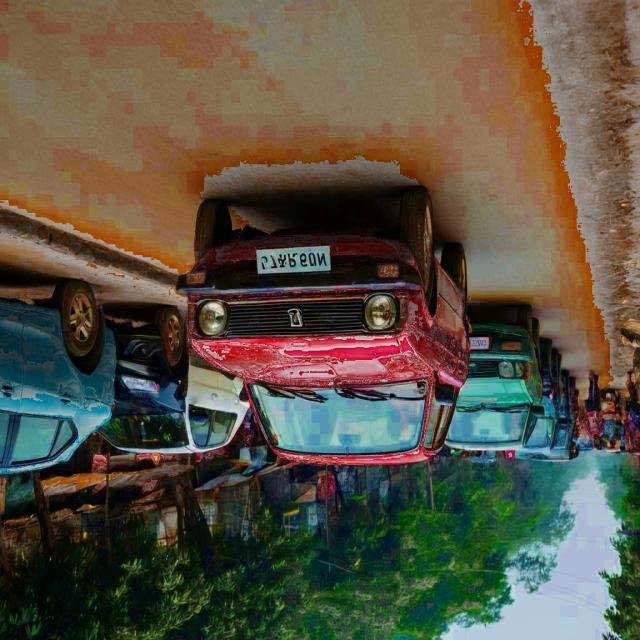blue: (0, 272, 119, 477)
green: (440, 300, 544, 444)
maroon: (192, 182, 481, 460)
